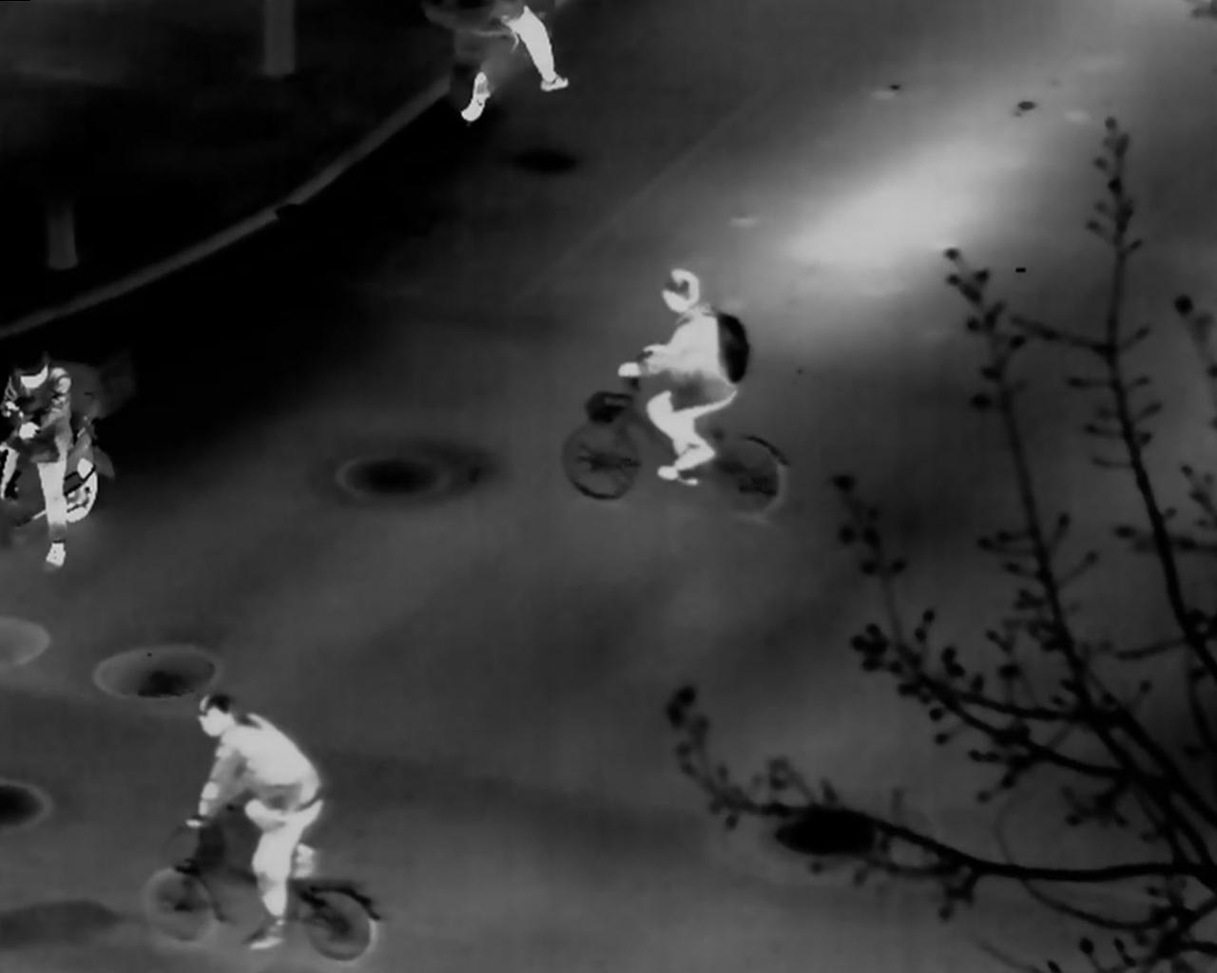person: (183, 693, 326, 949), (615, 267, 751, 488), (2, 347, 72, 571)
